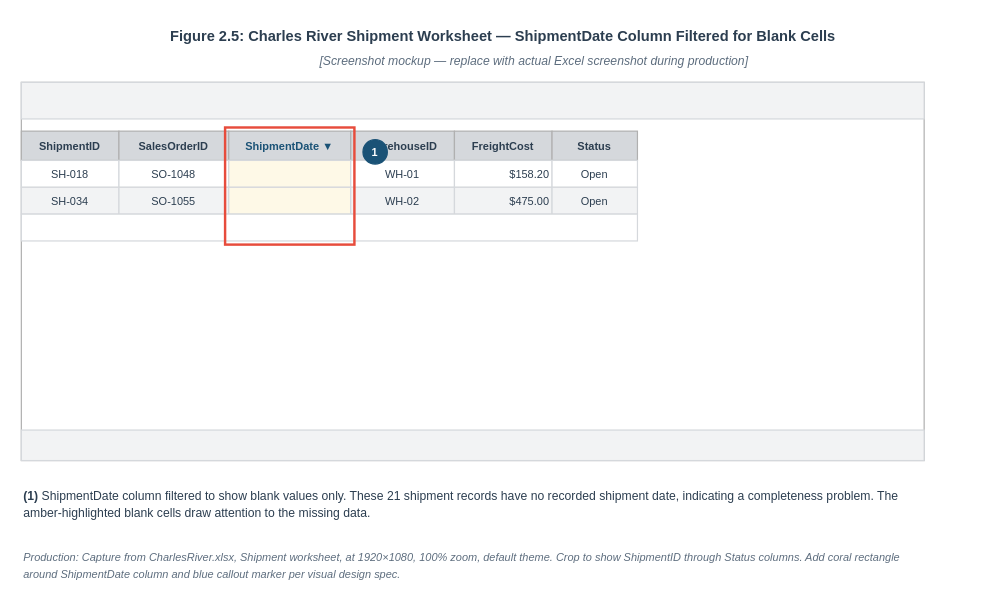
Some shapes in this 982 by 604 pixel diagram are drawn without their labels. The shapes that lost their labels are listed below. From the top down, each one's centre as x and y in pixels, then its label:
At pixel 472 100: "[Excel Ribbon — Home tab active]".
At pixel 328 227: "... additional rows with blank ShipmentDate ...".
At pixel 472 445: "21 of 248 records found (filtered: ShipmentDate = Blanks)".
